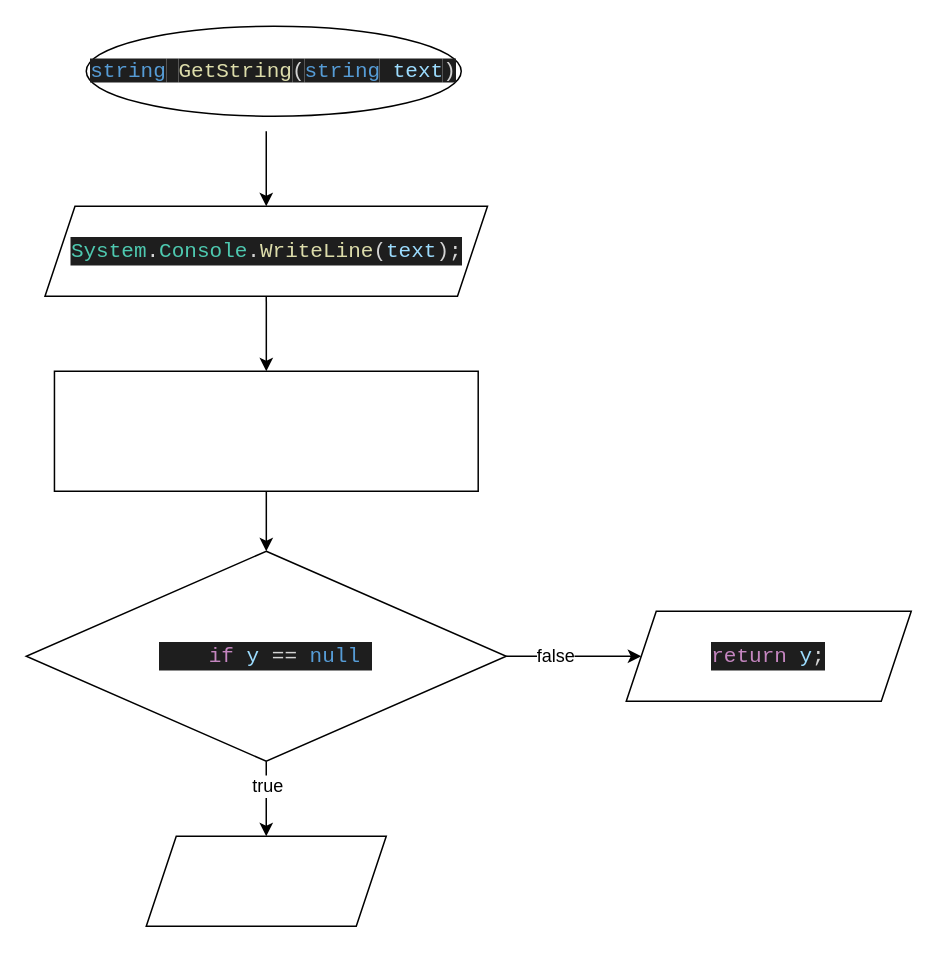
This 938x953 diagram has some shape labels left out. Each missing label, with the centre of its shape:
return "null" ;: [265,880]
string ? y = Console . ReadLine ();: [265,430]
